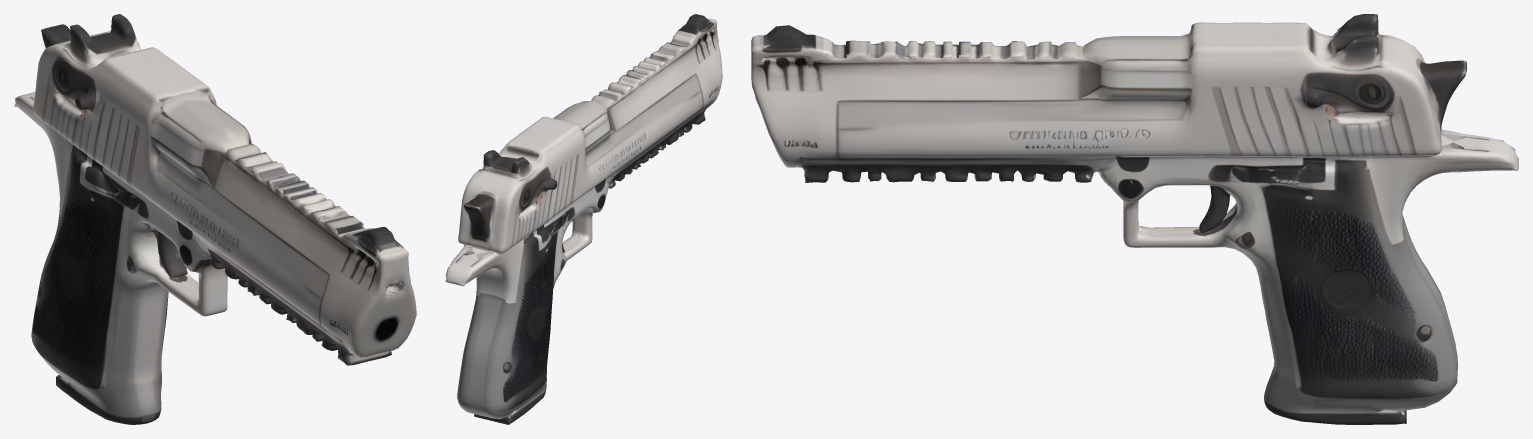
File: deagleplz.glb
3 renders of one model, left to right at view 1: azimuth 30°, elevation 25°; view 2: azimuth 150°, elevation 25°; view 3: azimuth 270°, elevation 25°, orthographic. The views are drawn at different scales.
Parts seen in each view (by area): view 1: Object_2; view 2: Object_2; view 3: Object_2.
Part boxes in pixels (x1,y1,x2,y2): Object_2: [14, 14, 416, 424]; Object_2: [445, 14, 722, 424]; Object_2: [751, 14, 1518, 424].
Size of the model in its own units: 0.2701 by 0.9914 by 1.78.
1 material, 1 textured.
